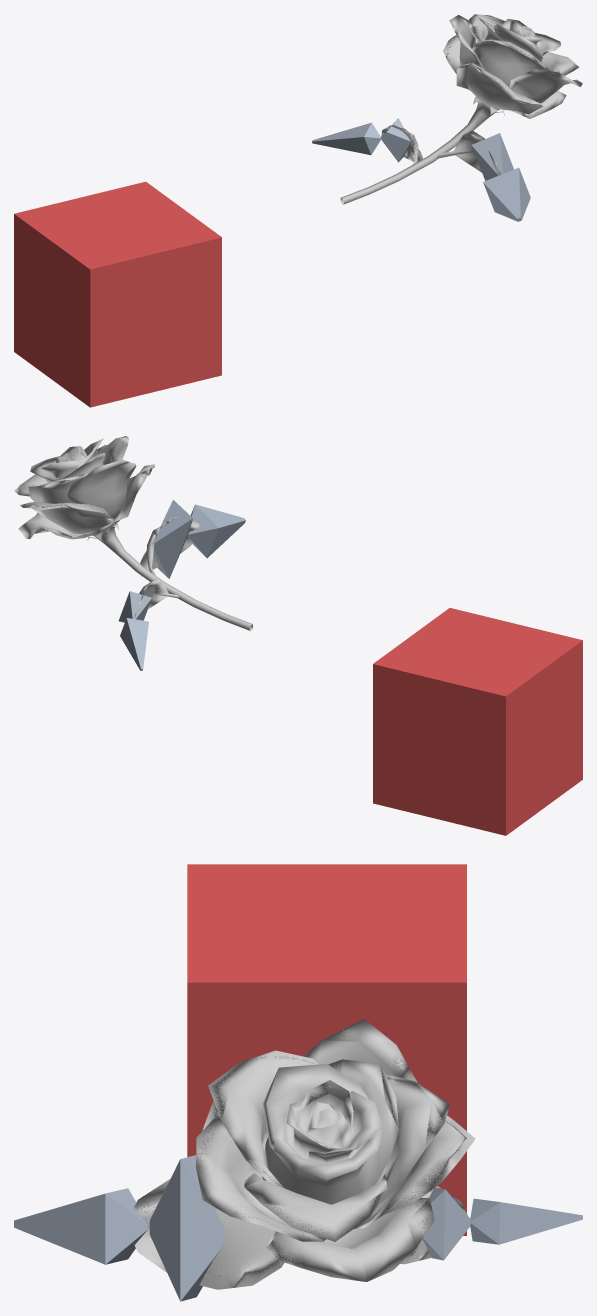
3 renders of one model, top to bottom at view 1: azimuth 30°, elevation 25°; view 2: azimuth 150°, elevation 25°; view 3: azimuth 270°, elevation 25°, orthographic. The views are drawn at different scales.
Parts seen in each view (by area): view 1: object0073_Box, object0002_B1220, object0058_Bone03, object0069_Bone06; view 2: object0073_Box, object0002_B1220, object0058_Bone03, object0069_Bone06; view 3: object0073_Box, object0002_B1220, object0058_Bone03, object0069_Bone06.
Part boxes in pixels (box(x1,y1,x2,y2)): object0073_Box: box(14, 181, 221, 407); object0002_B1220: box(340, 14, 582, 204); object0058_Bone03: box(471, 133, 530, 221); object0069_Bone06: box(312, 118, 410, 162); object0073_Box: box(373, 608, 582, 835); object0002_B1220: box(14, 436, 253, 631); object0058_Bone03: box(153, 500, 245, 578); object0069_Bone06: box(118, 591, 151, 670); object0073_Box: box(187, 864, 466, 1235); object0002_B1220: box(134, 1019, 475, 1289); object0058_Bone03: box(14, 1155, 226, 1301); object0069_Bone06: box(422, 1187, 582, 1260).
Size of the model in its own units: 0.7764 by 0.3583 by 0.3981.
